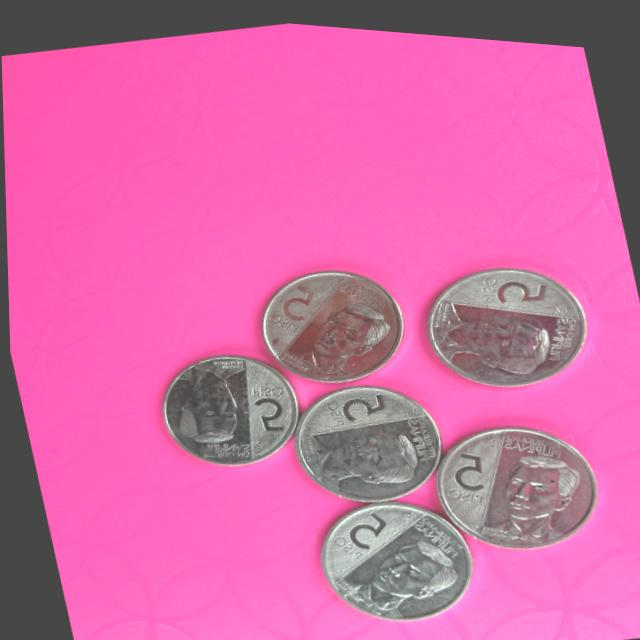5_New_Front: (462, 253, 555, 313), (326, 498, 403, 564), (432, 430, 501, 502), (261, 272, 330, 337), (236, 374, 297, 441), (313, 377, 391, 429)
